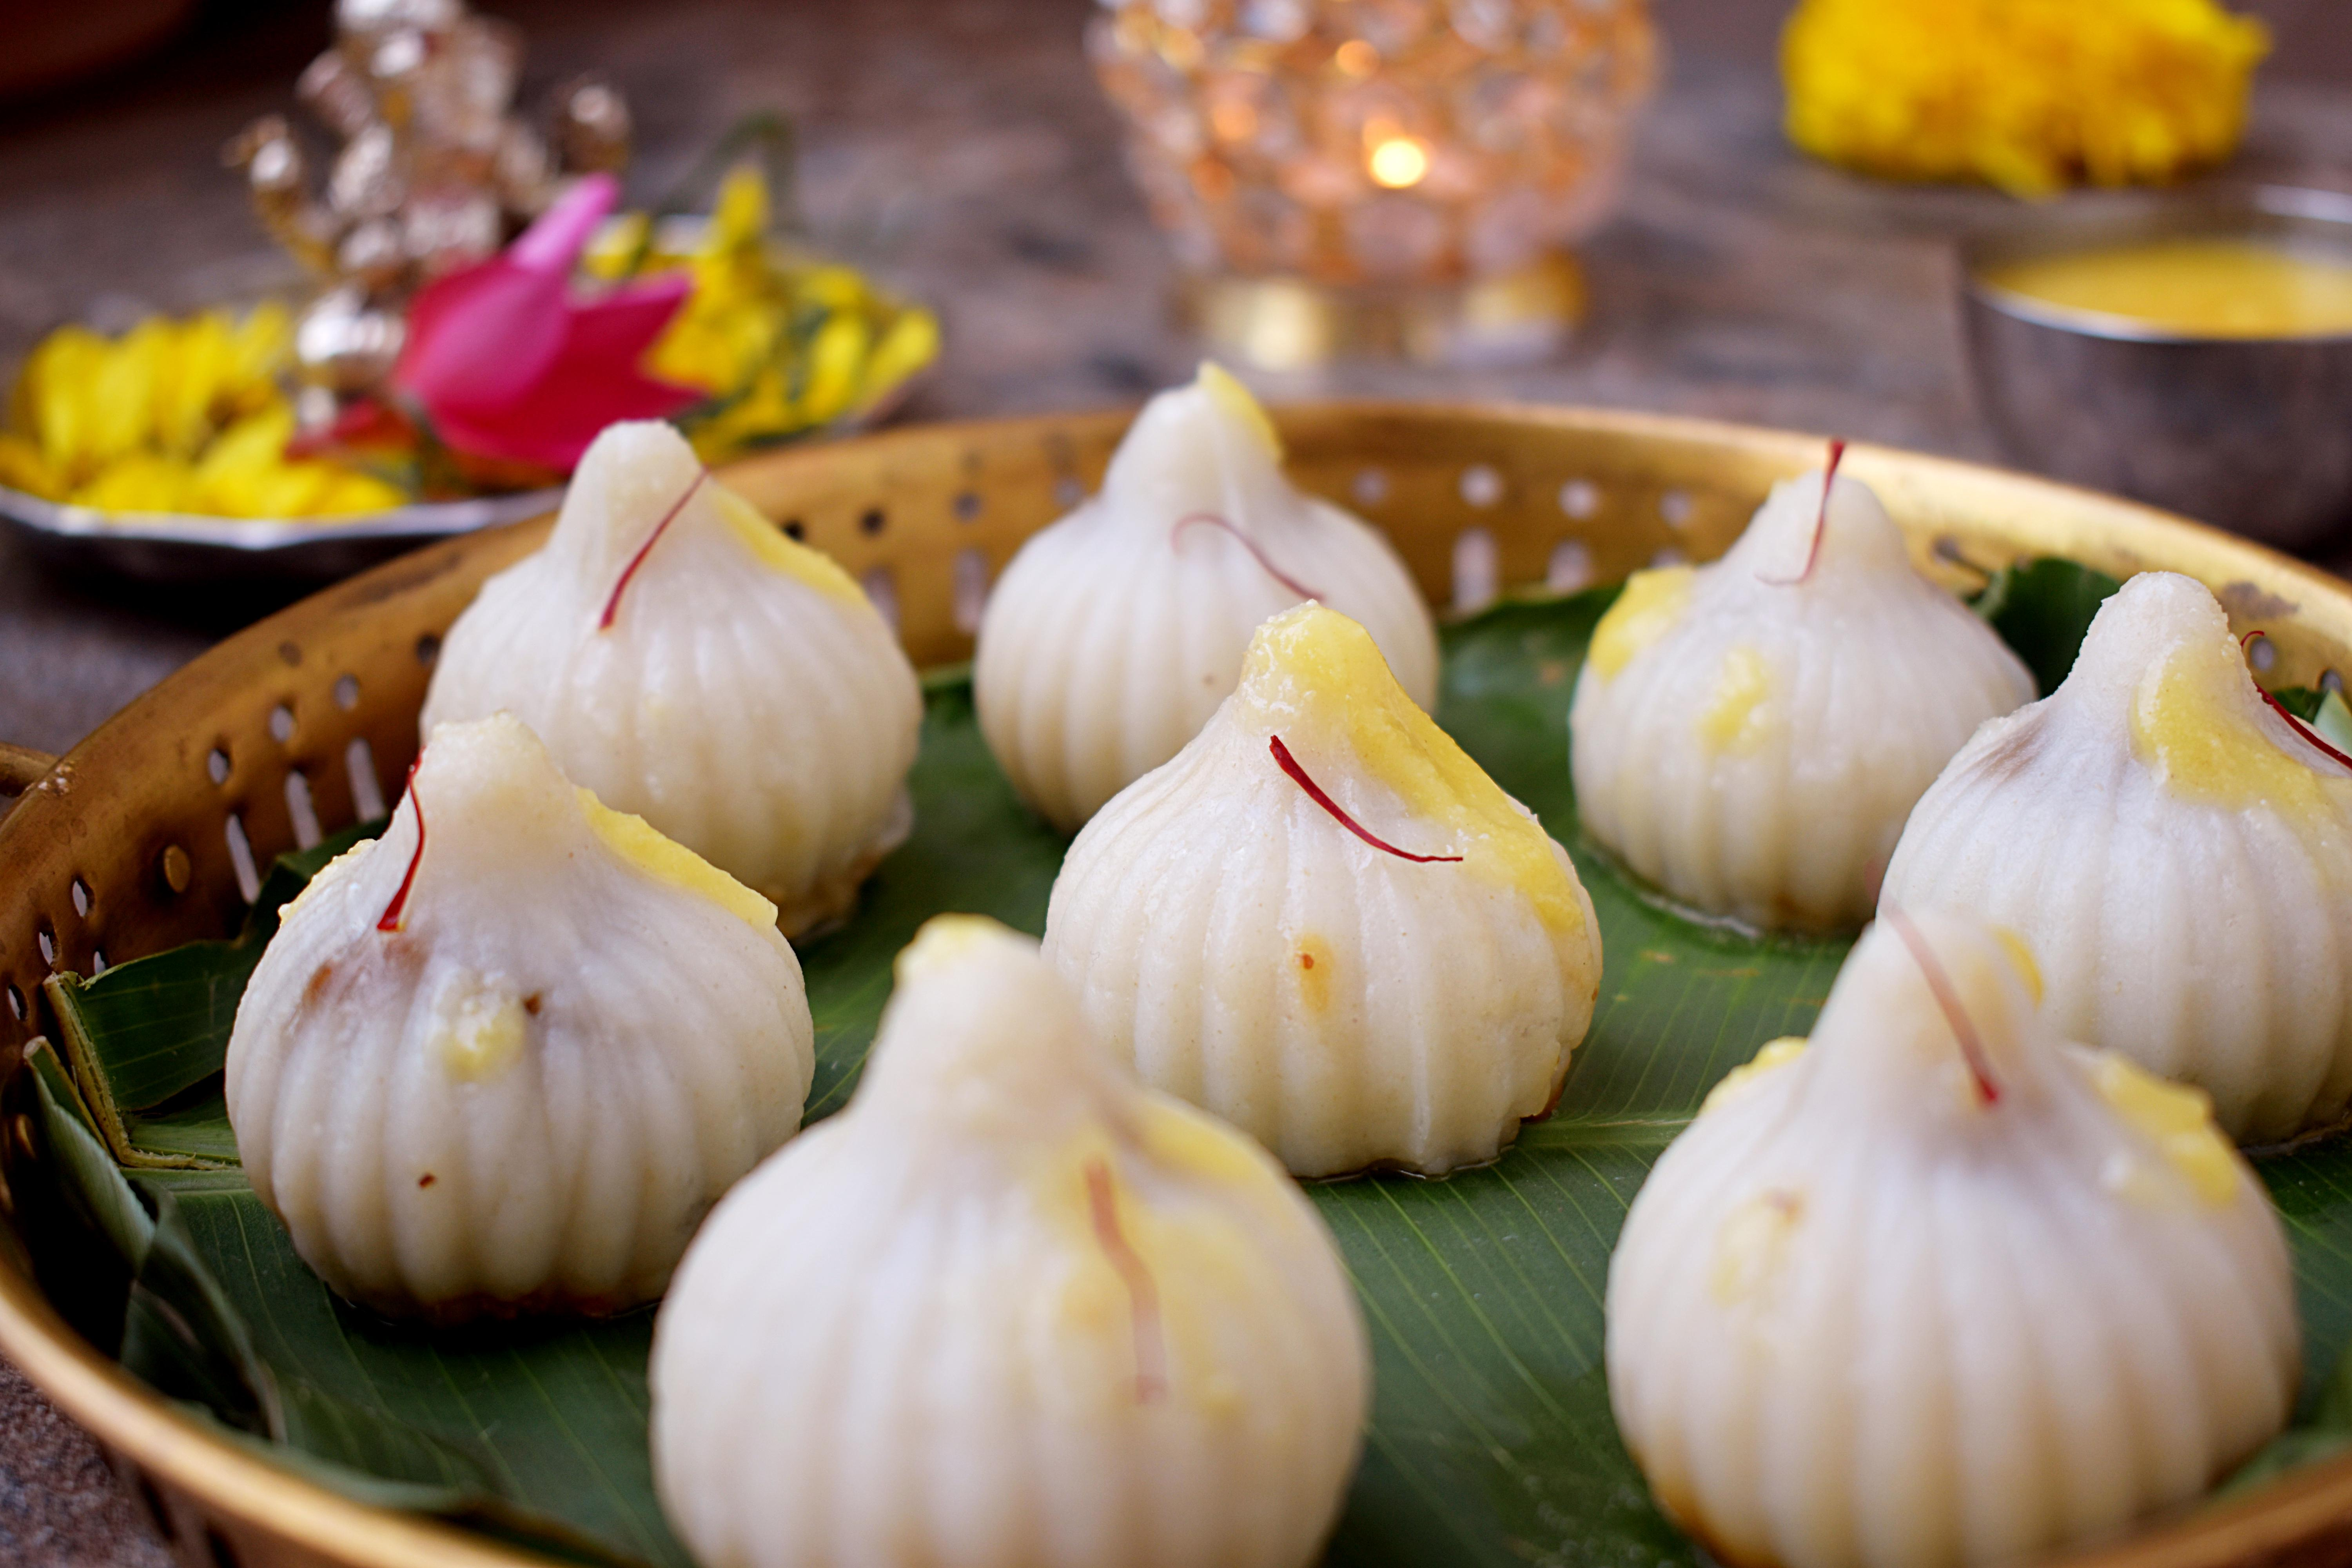modak: (1628, 849, 2326, 1566), (670, 901, 1372, 1568), (275, 702, 837, 1318), (1081, 663, 1607, 1188), (464, 427, 954, 901), (1993, 528, 2352, 1137), (1566, 467, 2000, 912), (1013, 416, 1442, 784)
